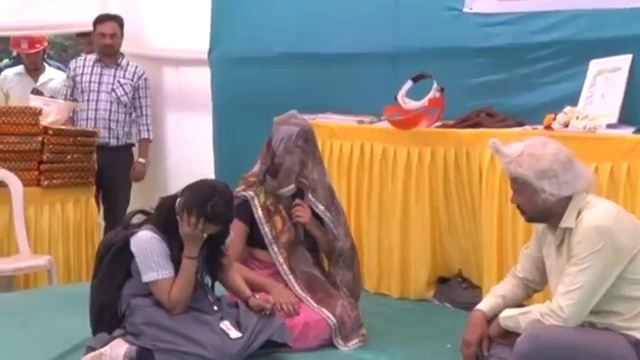helmet: (27, 93, 83, 128), (9, 32, 47, 54)
helmet_off: (500, 141, 590, 228), (164, 181, 231, 243), (264, 117, 321, 188), (81, 12, 128, 62)
helmet_on: (8, 31, 49, 77)
person: (456, 134, 640, 353), (224, 117, 360, 351), (80, 175, 260, 348), (58, 6, 150, 233), (0, 32, 67, 109), (5, 164, 48, 281)
